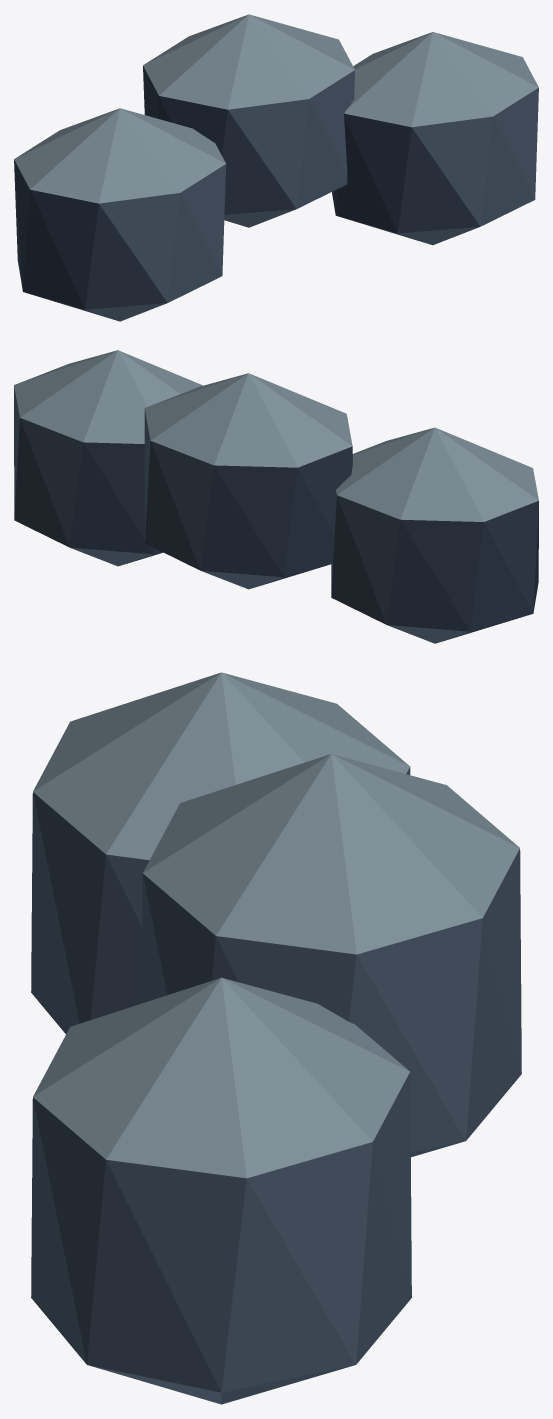
The model's file is TW_VEG_BUSH_SPARSE_B_LOD0.glb.
3 views of the same model, one above another, from view 1: azimuth 30°, elevation 25°; view 2: azimuth 150°, elevation 25°; view 3: azimuth 270°, elevation 25° (orthographic). The views are drawn at different scales.
Parts seen in each view (by area): view 1: TW_VEG_BUSH_SPARSE_B_LOD0; view 2: TW_VEG_BUSH_SPARSE_B_LOD0; view 3: TW_VEG_BUSH_SPARSE_B_LOD0.
Part boxes in pixels (x1,y1,x2,y2): TW_VEG_BUSH_SPARSE_B_LOD0: (14, 14, 538, 321); TW_VEG_BUSH_SPARSE_B_LOD0: (14, 350, 538, 643); TW_VEG_BUSH_SPARSE_B_LOD0: (31, 672, 521, 1404).
Size of the model in its own units: 1.49 by 0.7 by 0.625.
1 material, 1 textured.
